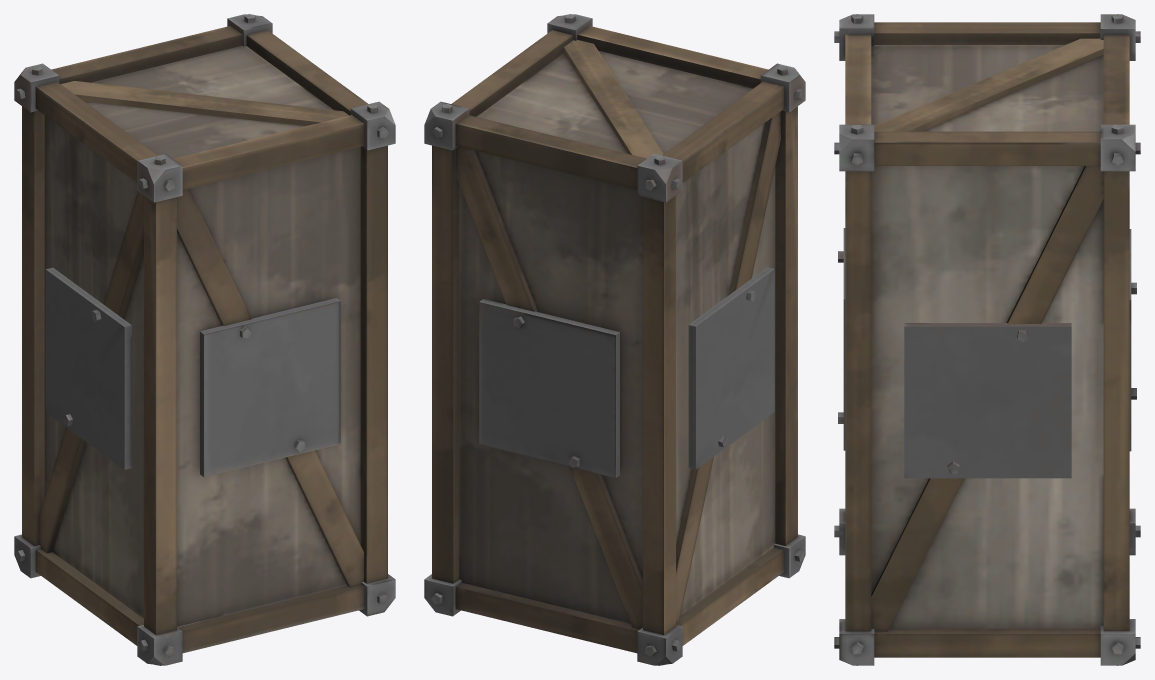
File: BuildingCrate1x2x1.glb
The picture shows the model from 3 angles, left to right: view 1: azimuth 30°, elevation 25°; view 2: azimuth 150°, elevation 25°; view 3: azimuth 270°, elevation 25°; orthographic projection. The views are drawn at different scales.
Parts seen in each view (by area): view 1: BuildingCrate1x2x1; view 2: BuildingCrate1x2x1; view 3: BuildingCrate1x2x1.
Boxes of the visible parts, <box> form: BuildingCrate1x2x1: <box>14,14,395,665</box>; BuildingCrate1x2x1: <box>424,14,805,665</box>; BuildingCrate1x2x1: <box>834,14,1140,665</box>.
Size of the model in its own units: 0.6766 by 1.3 by 0.6744.
1 material, 1 textured.
